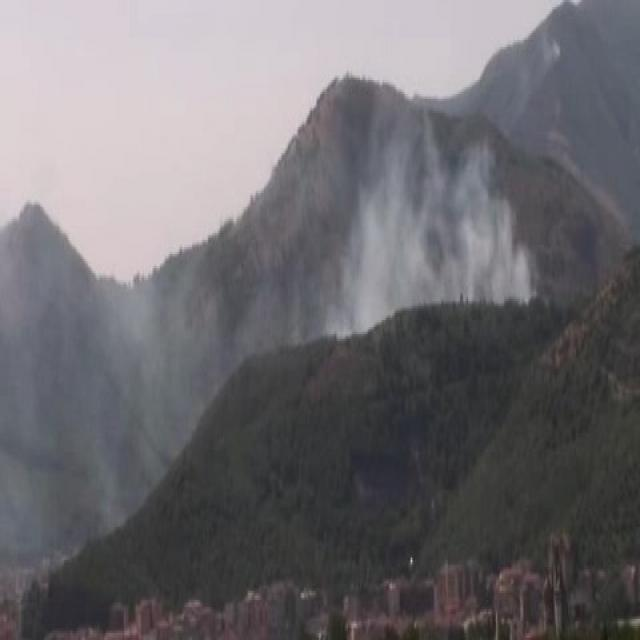smoke: (338, 136, 537, 335)
